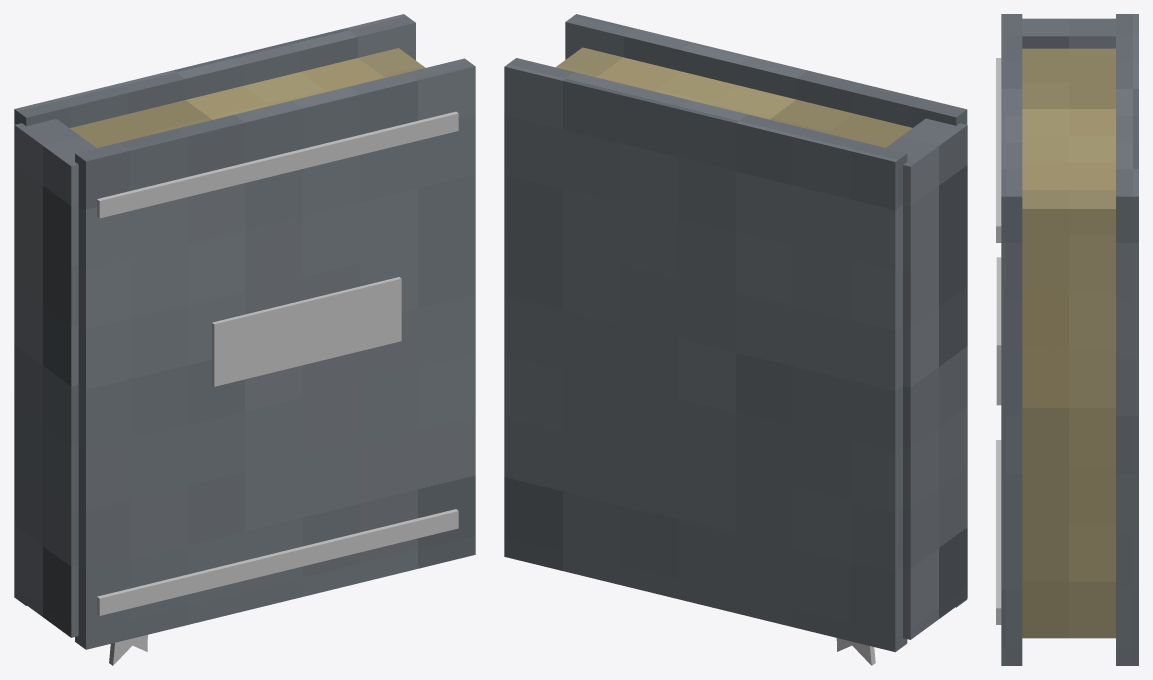
Rendered from cutout.obj.
3 views of the same model, side by side, from view 1: azimuth 30°, elevation 25°; view 2: azimuth 150°, elevation 25°; view 3: azimuth 270°, elevation 25° (orthographic). The views are drawn at different scales.
Bounding box in the file's own units: 0.4319 × 0.5637 × 0.14.
